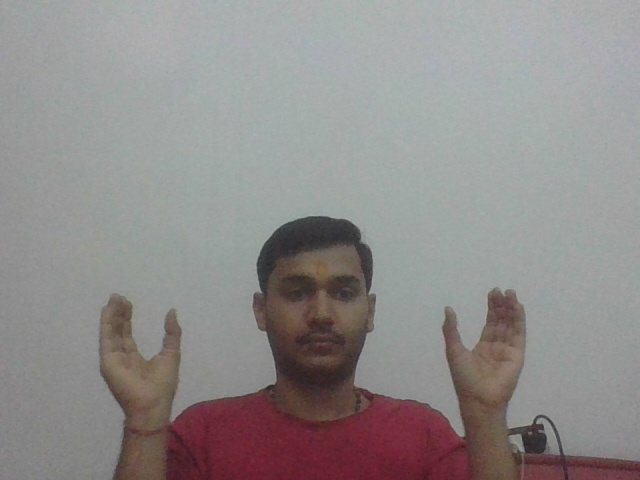U: (439, 284, 529, 408), (96, 289, 185, 405)
